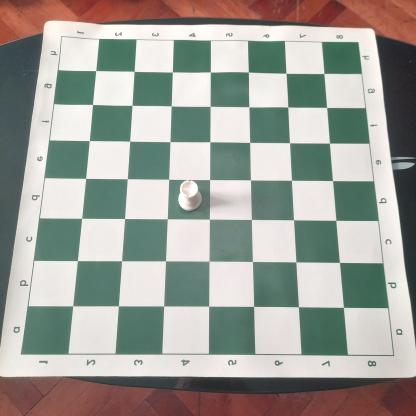white-rook: (173, 180, 205, 214)
